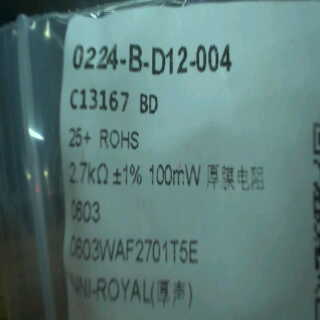2.7kR: (67, 160, 110, 189)
